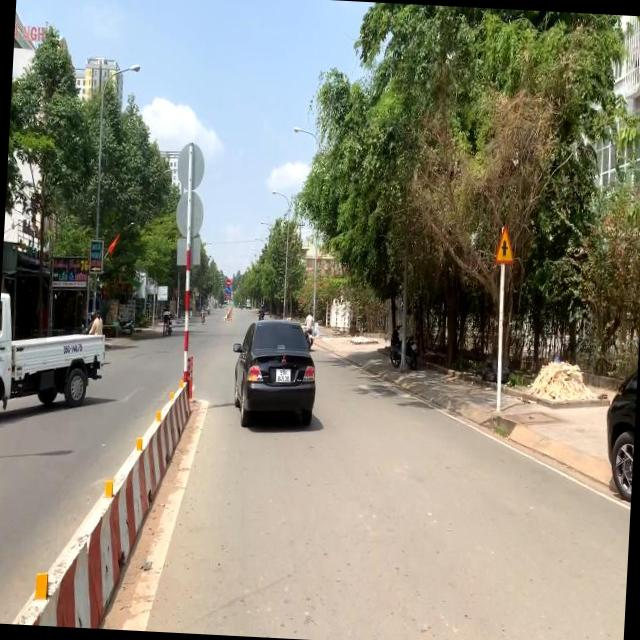W-207a: (492, 223, 517, 262)
